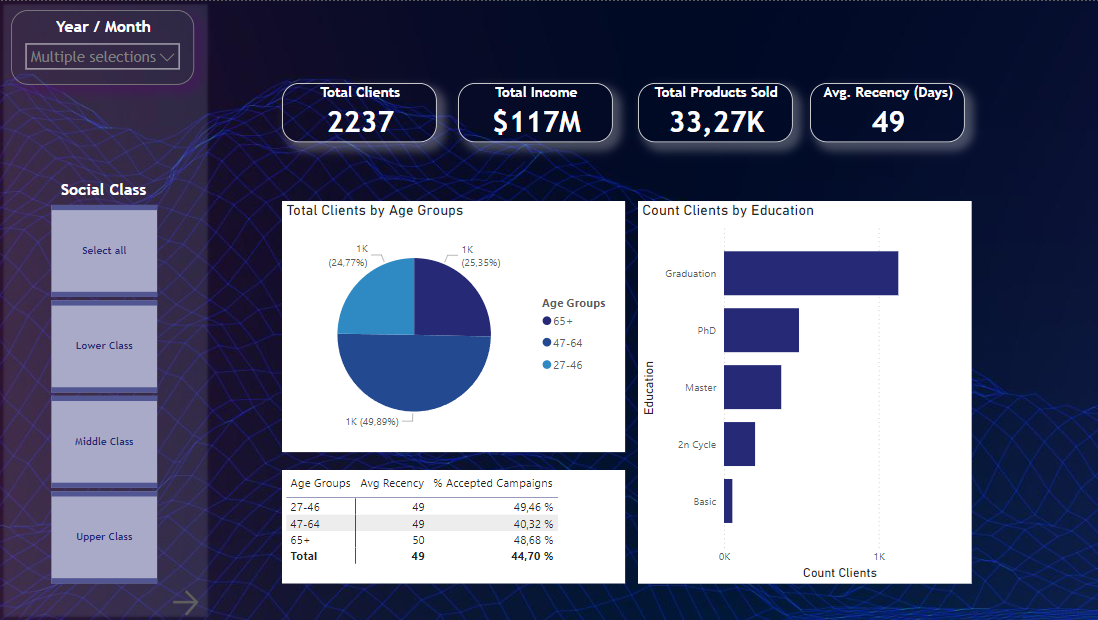

The page's visual inventory and layout, read from the dashboard file:
{"tool":"powerbi","page":{"name":"Client Info","canvas":[1280,720],"ordinal":2},"visuals":[{"type":"shape","box":[0,0,245.4,720],"z":0},{"type":"card","title":"Total Income","fields":{"Values":["Measure.Total Income"]},"box":[532.4,95,179.8,68.7],"z":1000},{"type":"card","title":"Total Clients","fields":{"Values":["Measure.Total Clients"]},"box":[328.3,95,179.8,68.7],"z":2000},{"type":"card","title":"Total Products Sold","fields":{"Values":["Measure.Total products sold"]},"box":[741.5,95,179.8,68.7],"z":3000},{"type":"card","title":"Avg. Recency (Days)","fields":{"Values":["Measure.Avg Recency"]},"box":[941.6,95,179.8,68.7],"z":4000},{"type":"barChart","fields":{"Y":["Measure.Count Clients"],"Category":["DimCliente.Education"]},"box":[741.8,232.5,387.8,444.7],"z":5000},{"type":"slicer","title":"Year / Month","fields":{"Values":["DimFecha.Year","DimFecha.Month Name"]},"box":[13,10,213,87],"z":6000},{"type":"slicer","title":"Social Class","fields":{"Values":["DimCliente.SocialClass"]},"box":[33.8,207.9,173.1,475.9],"z":7000},{"type":"pieChart","fields":{"Y":["Total Participantes Campaña 1.Total Clients"],"Category":["DimCliente.Age_Groups"]},"box":[328,232.5,399.3,292.3],"z":8000},{"type":"pivotTable","fields":{"Rows":["DimCliente.Age_Groups"],"Values":["Total Participantes Campaña 1.Avg Recency","Total Participantes Campaña 1.TasaAceptacionGlobal"]},"box":[328,545,399.3,132.1],"z":8001},{"type":"actionButton","box":[194.8,680,43.4,39.5],"z":8002}]}

Visuals, with their boxes in screenshot pixels (x1, y1, x2, y2), scaled from the page's 1280x720 canvas onto the 1098x620 screenshot:
shape: <bbox>0, 0, 211, 619</bbox>
"Total Income" card: <bbox>457, 82, 611, 141</bbox>
"Total Clients" card: <bbox>282, 82, 436, 141</bbox>
"Total Products Sold" card: <bbox>636, 82, 790, 141</bbox>
"Avg. Recency (Days)" card: <bbox>808, 82, 962, 141</bbox>
barChart - Measure.Count Clients x DimCliente.Education: <bbox>636, 200, 969, 583</bbox>
"Year / Month" slicer: <bbox>11, 9, 194, 84</bbox>
"Social Class" slicer: <bbox>29, 179, 177, 589</bbox>
pieChart - Total Participantes Campaña 1.Total Clients x DimCliente.Age_Groups: <bbox>281, 200, 624, 452</bbox>
pivotTable - DimCliente.Age_Groups x Total Participantes Campaña 1.Avg Recency: <bbox>281, 469, 624, 583</bbox>
actionButton: <bbox>167, 586, 204, 619</bbox>
